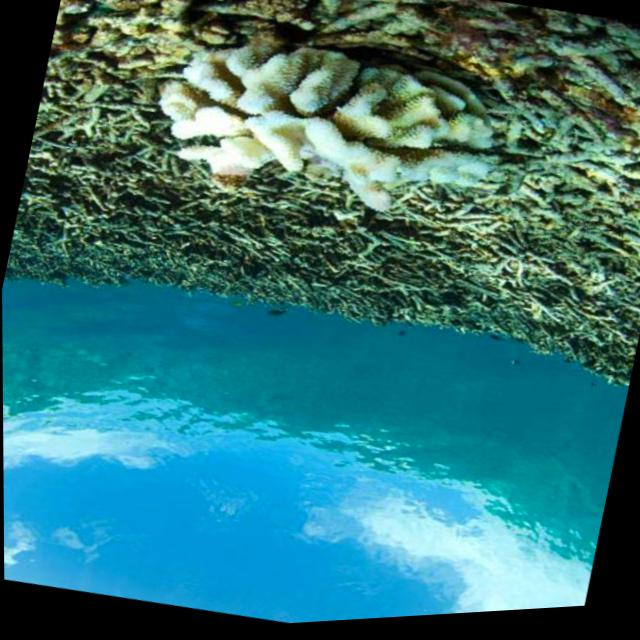Dead Coral: (9, 131, 640, 411), (491, 9, 640, 259), (30, 0, 195, 170), (192, 0, 452, 84)
